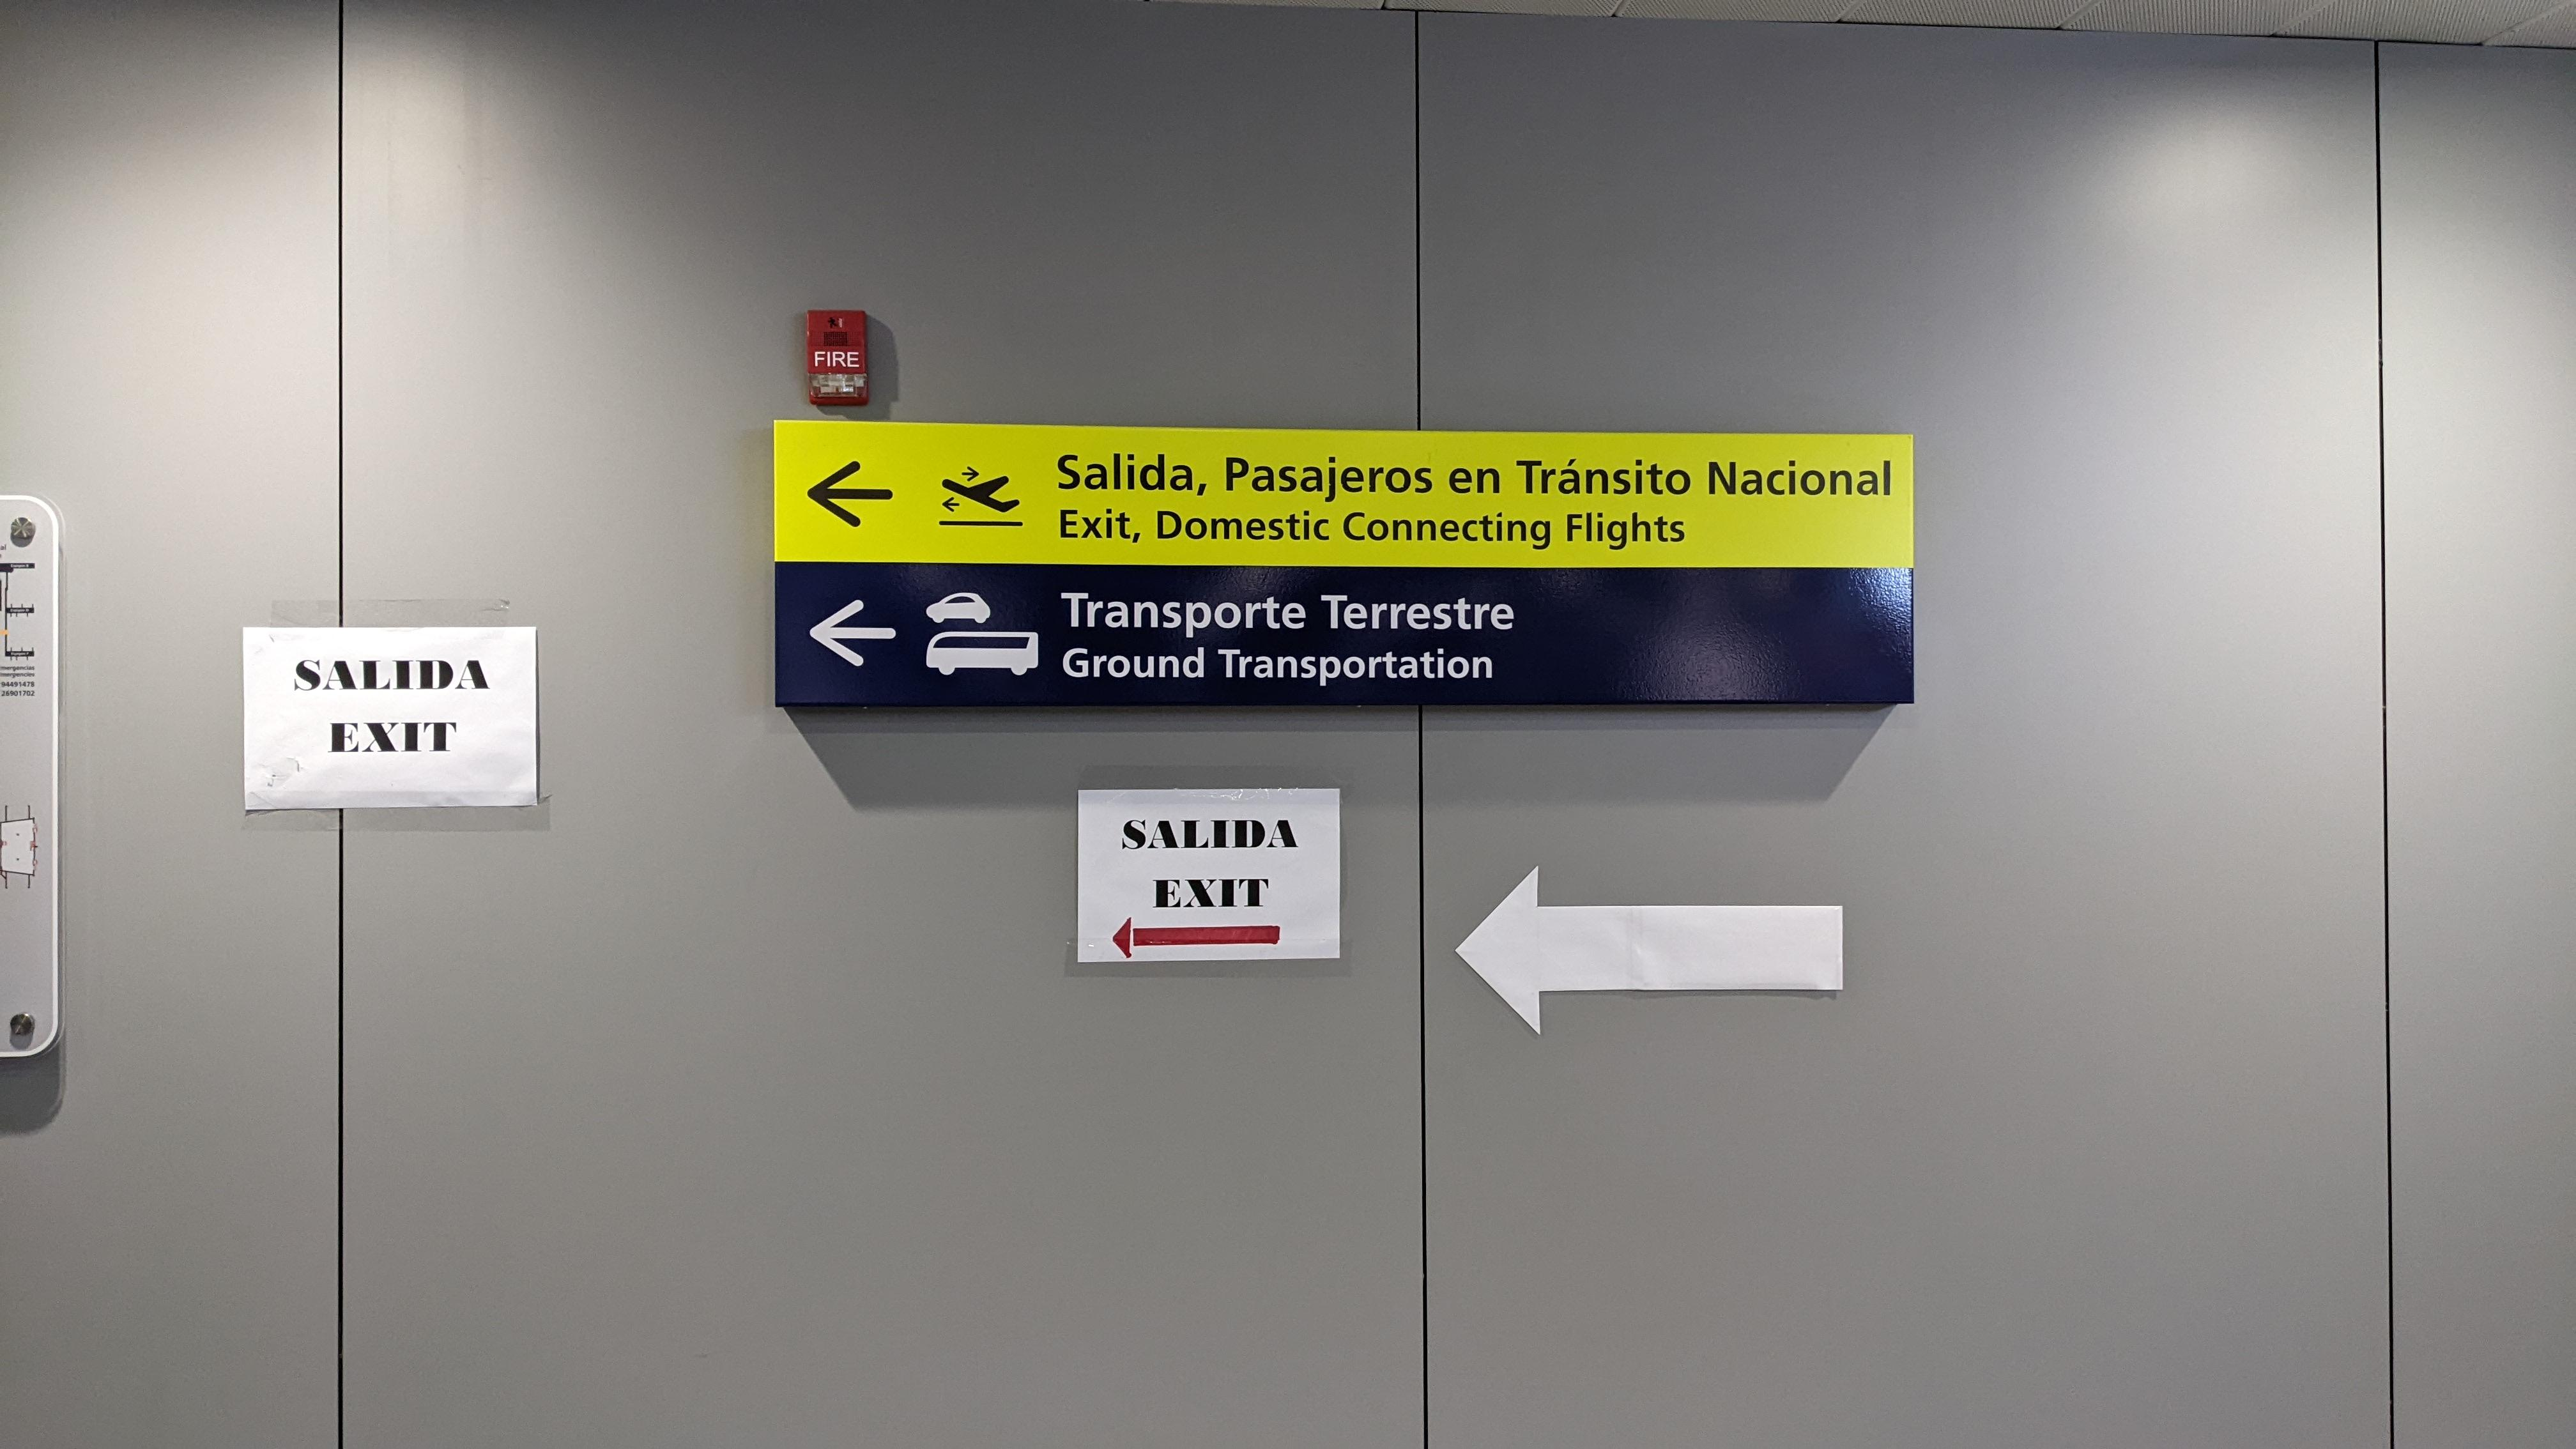airplane symbol: (936, 464, 1023, 518)
thin left arrow: (801, 458, 899, 533), (809, 598, 902, 671)
